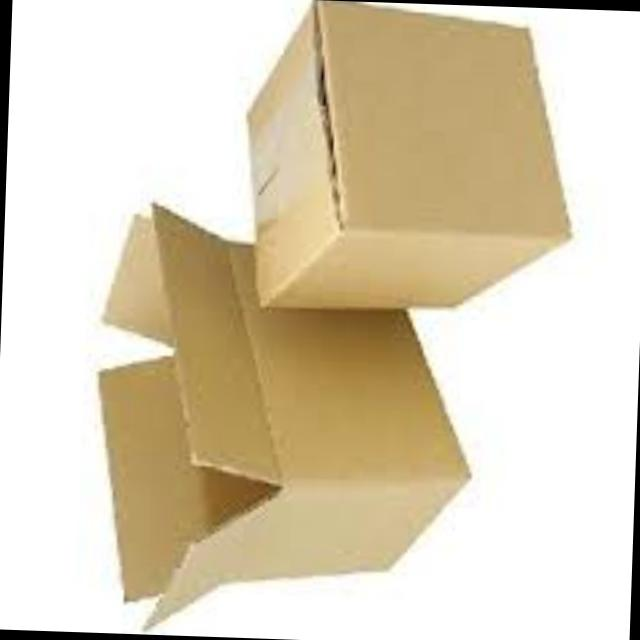cardboard paper: (94, 211, 461, 631), (242, 5, 561, 312)
